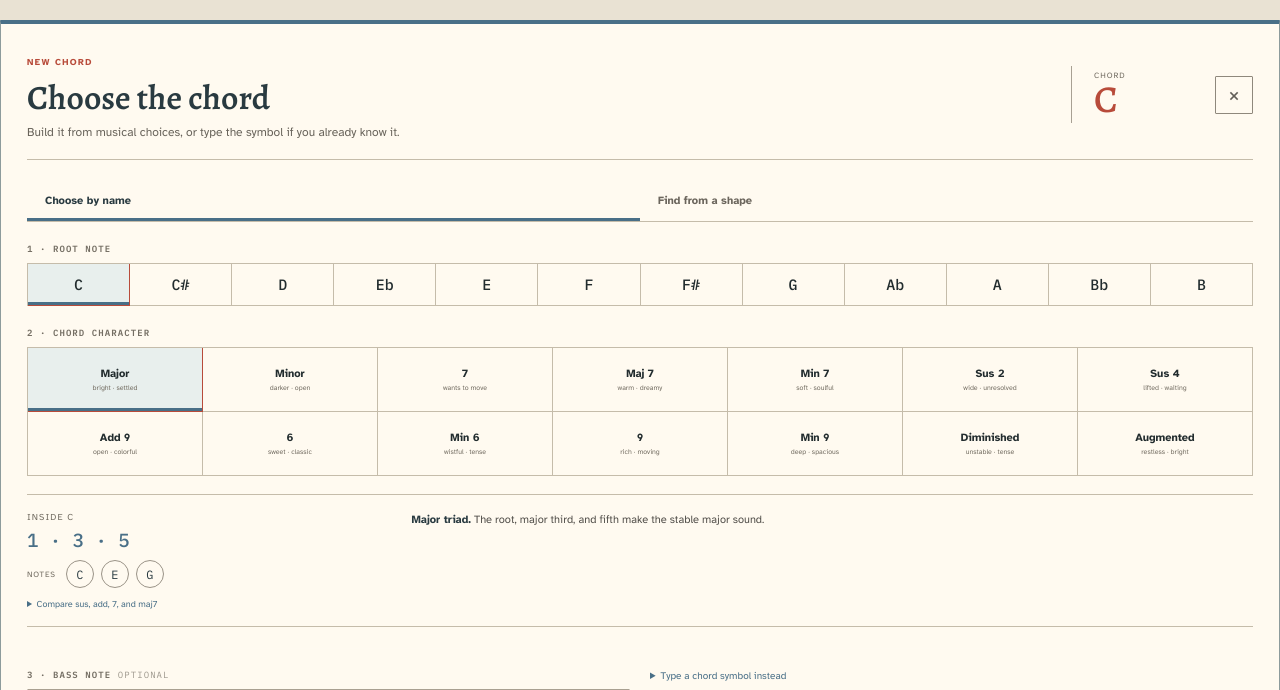
Test: guided chord entry › explains chord symbols with formulas and notes as they are chosen
Click the button "Sus 4 lifted · waiting" at (1166, 380), box [1078,348,1253,412]
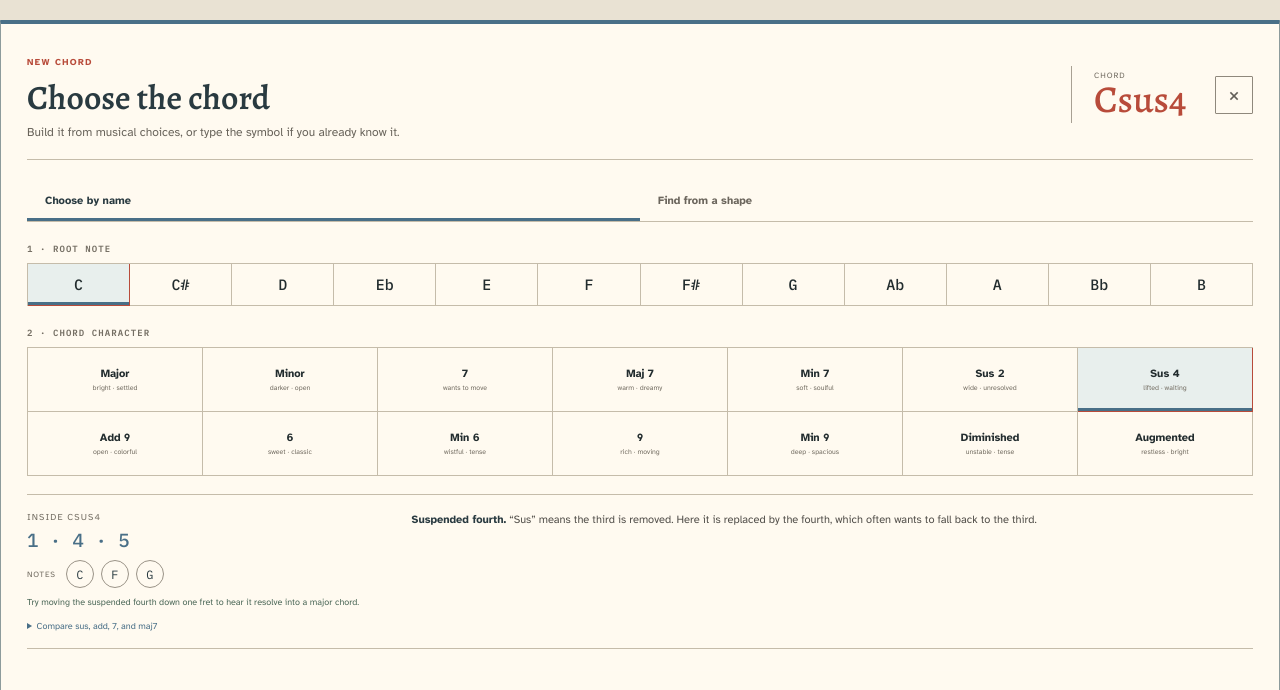
Expected: the text "Inside Csus4" is shown, [27,511,101,523]
Expected: the text "1 · 4 · 5" is shown, [27,528,130,552]
Expected: the text "third is removed" is shown, [509,513,1037,526]
